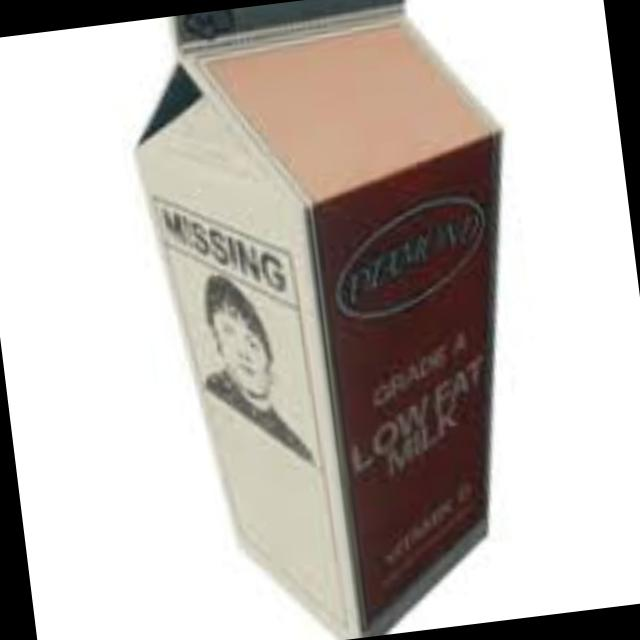cardboard paper: (134, 0, 494, 639)
